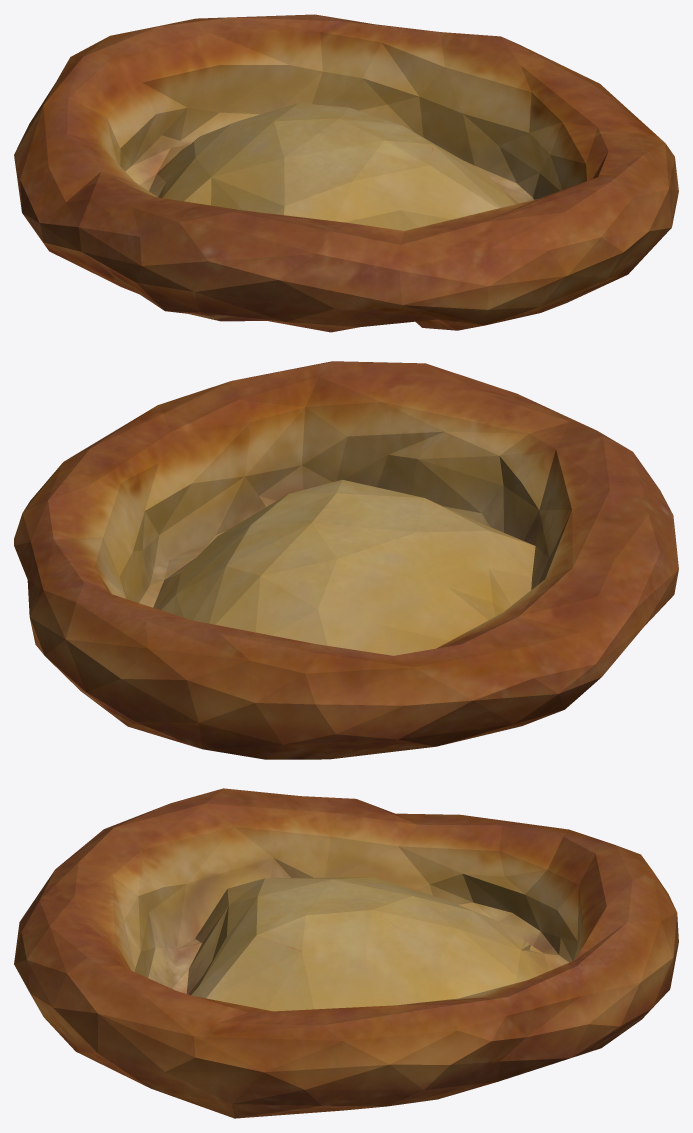
3 views of the same model, one above another, from view 1: azimuth 30°, elevation 25°; view 2: azimuth 150°, elevation 25°; view 3: azimuth 270°, elevation 25° (orthographic). The views are drawn at different scales.
Parts seen in each view (by area): view 1: Kcherl_0.8k_1k; view 2: Kcherl_0.8k_1k; view 3: Kcherl_0.8k_1k.
Boxes of the visible parts, <box> form: Kcherl_0.8k_1k: <box>14,14,678,332</box>; Kcherl_0.8k_1k: <box>14,361,678,759</box>; Kcherl_0.8k_1k: <box>14,788,678,1118</box>.
Bounding box in the file's own units: 0.1072 × 0.0257 × 0.1167.
1 material, 1 textured.
